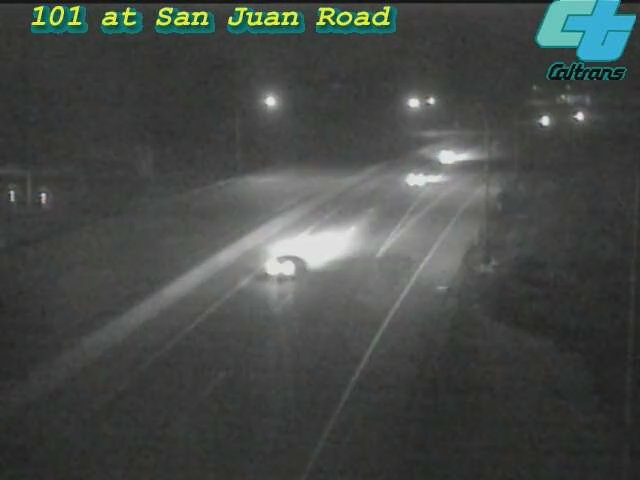vehicle: (376, 140, 456, 220), (244, 225, 324, 305), (522, 94, 572, 144), (556, 91, 606, 141), (420, 133, 470, 183)
